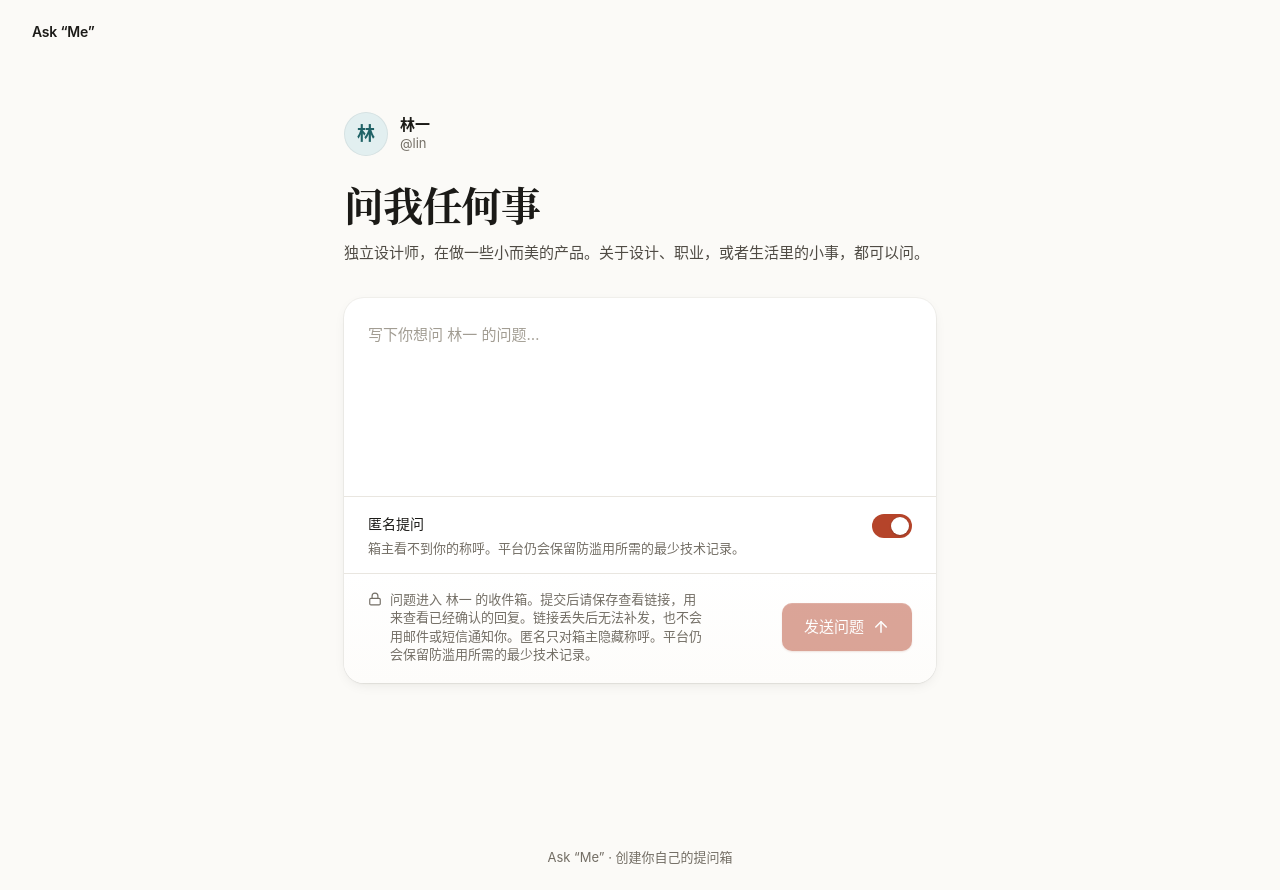
Test case: public question box › guides a visitor from an empty form to a delivered question
The image size is (1280, 890).
Expected: the heading "问我任何事" is shown, [344,175,540,232]
Click the button "发送问题".
click(847, 627)  # box [782,603,912,651]
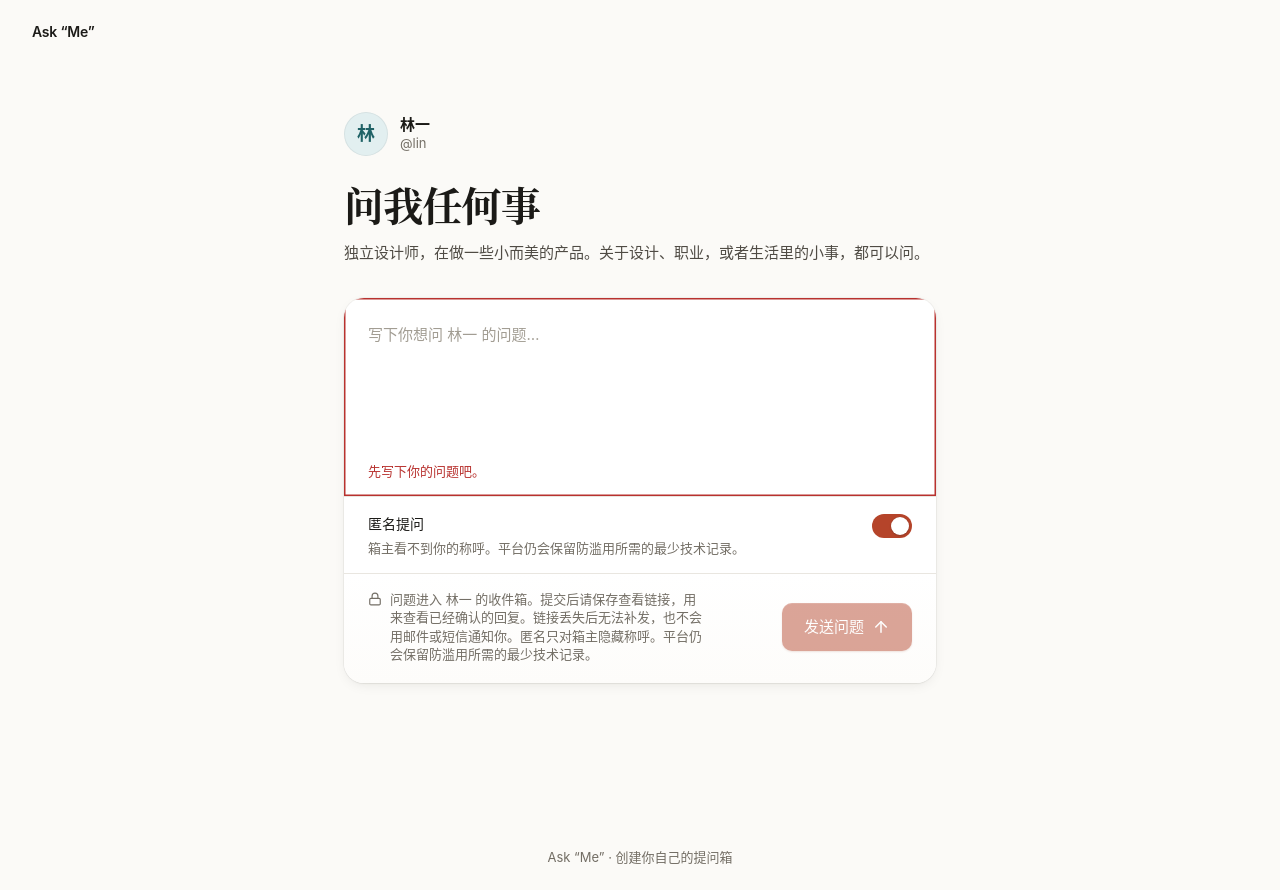
Expected: the text "先写下你的问题吧。" is shown, [368,461,485,482]
Type "你是怎么安排一天的时间的？" into the text box named "你的问题".
click(640, 376); type("你是怎么安排一天的时间的？")  # box [344,298,936,453]
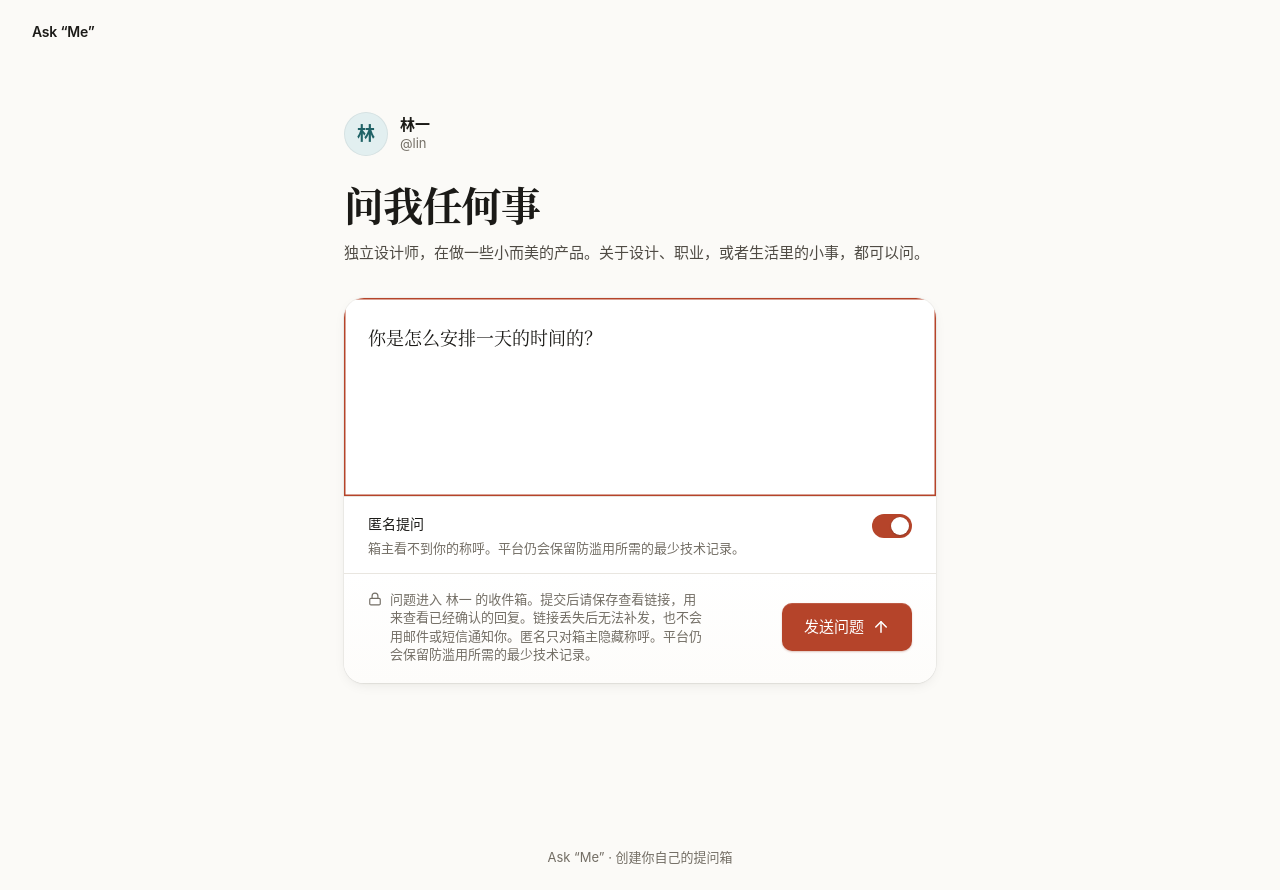
Click the switch named "匿名提问".
click(892, 526)  # box [872,514,912,538]
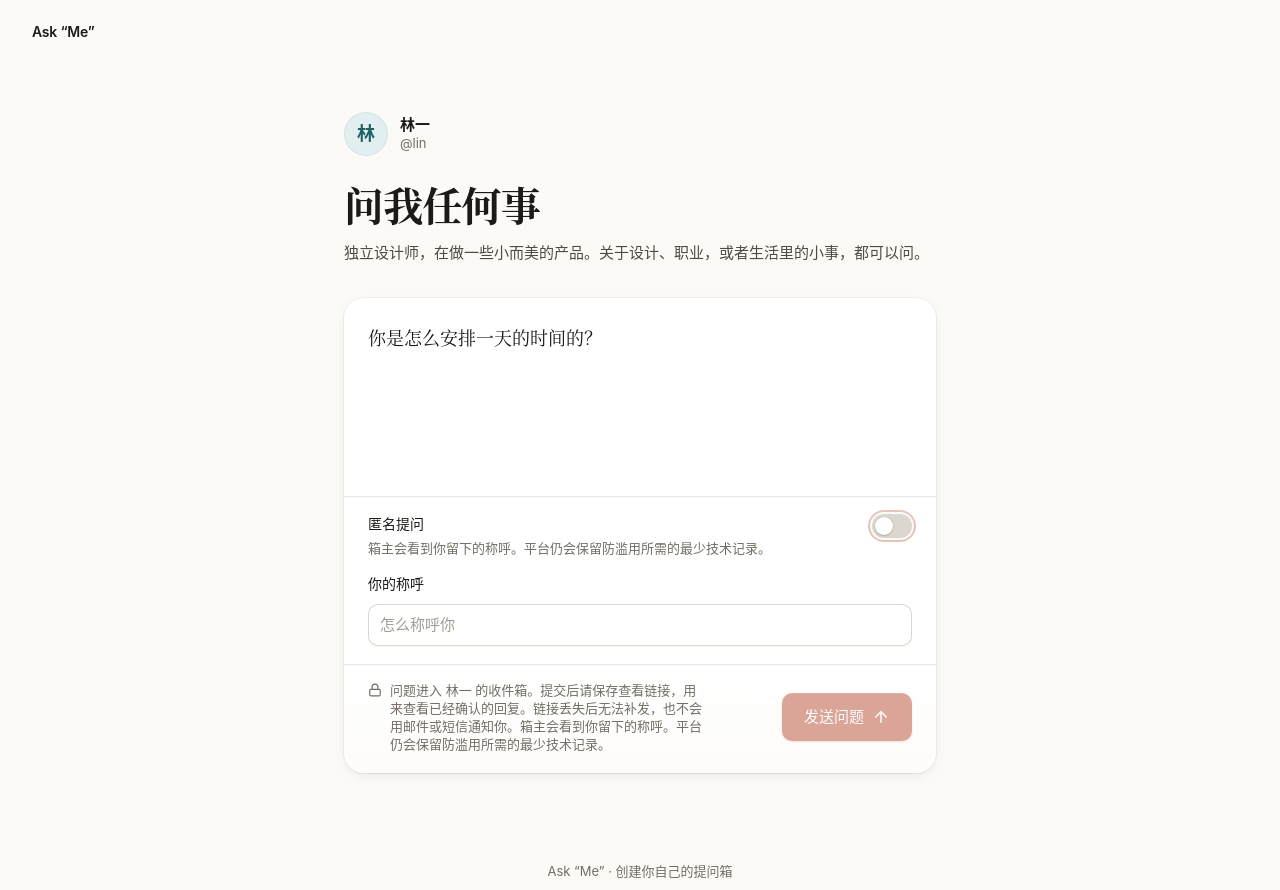
Click the button "发送问题".
click(847, 717)  # box [782,693,912,741]
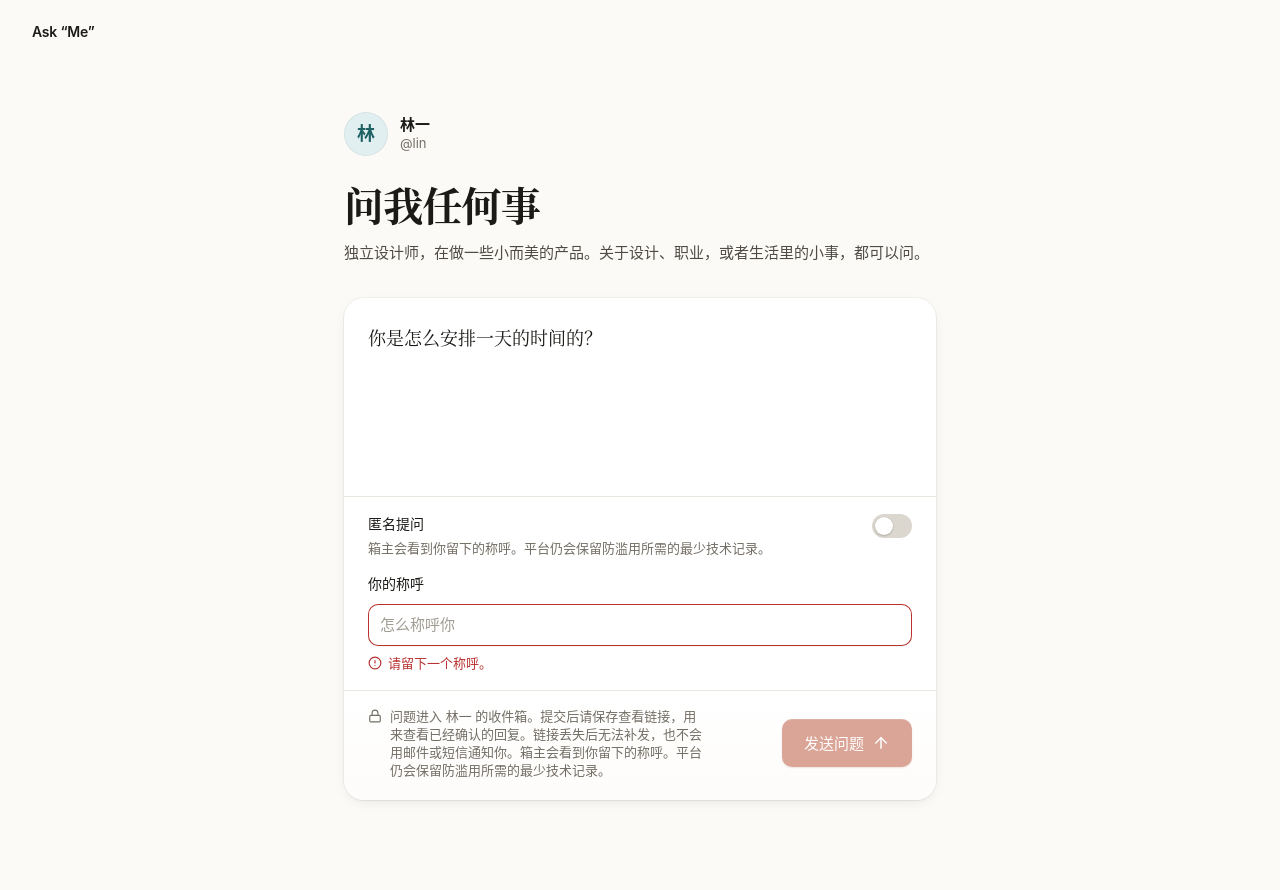
Expected: the text "请留下一个称呼。" is shown, [368,655,492,671]
Type "阿远" into the field labelled "你的称呼".
click(640, 625); type("阿远")  # box [368,604,912,646]
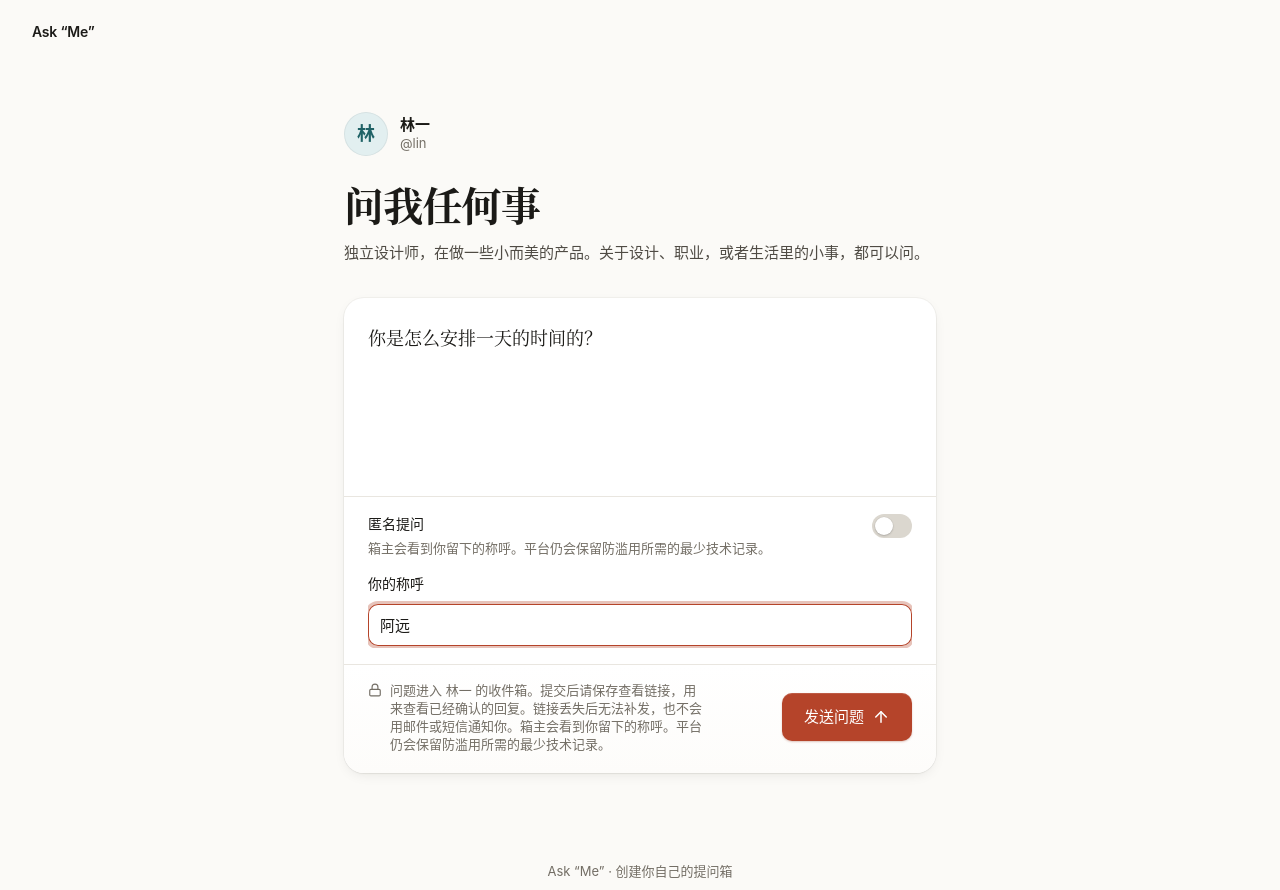
Click the button "发送问题".
click(847, 717)  # box [782,693,912,741]
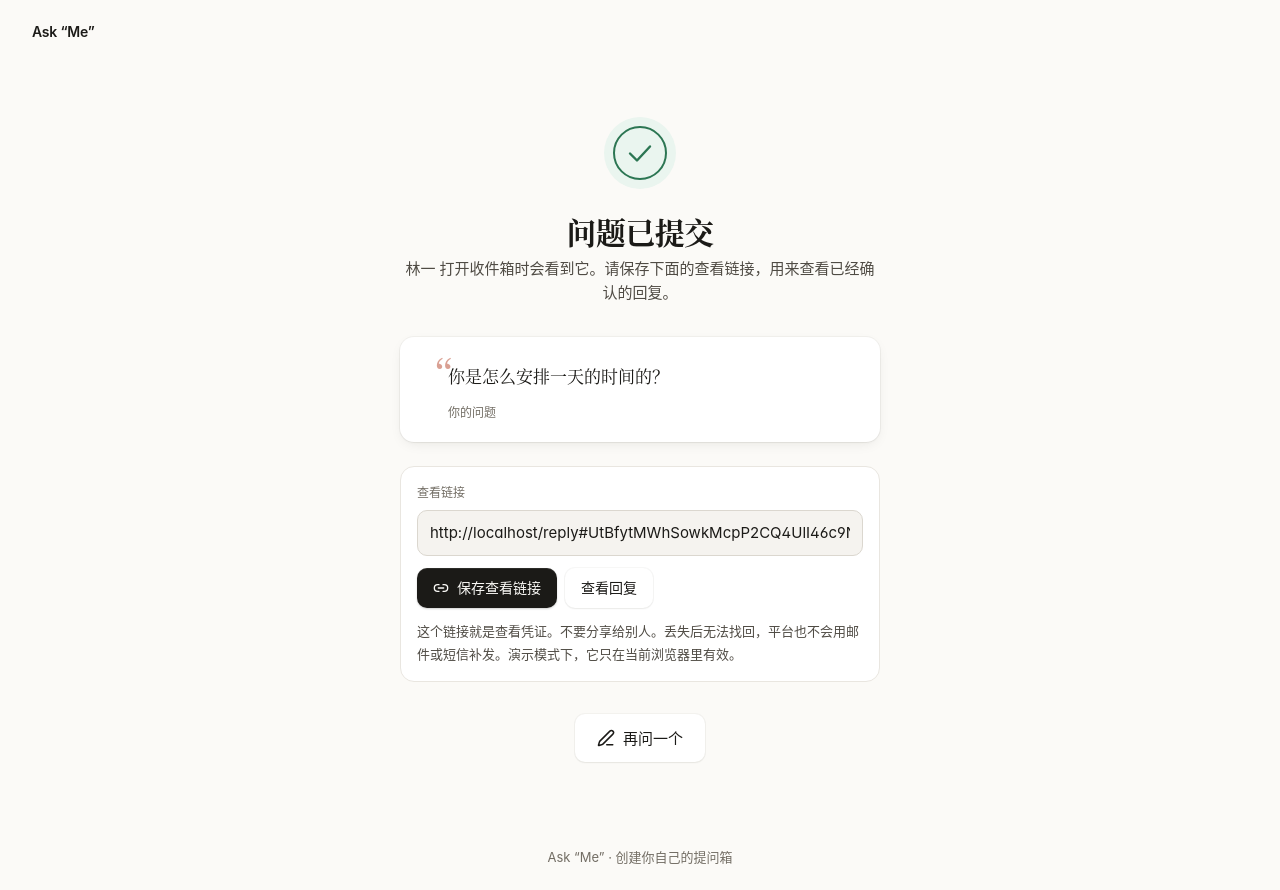
Expected: the heading "问题已提交" is shown, [566,213,714,249]
Expected: the button "保存查看链接" is shown, [417,568,557,608]
Expected: the link "查看回复" is shown, [565,568,653,608]
